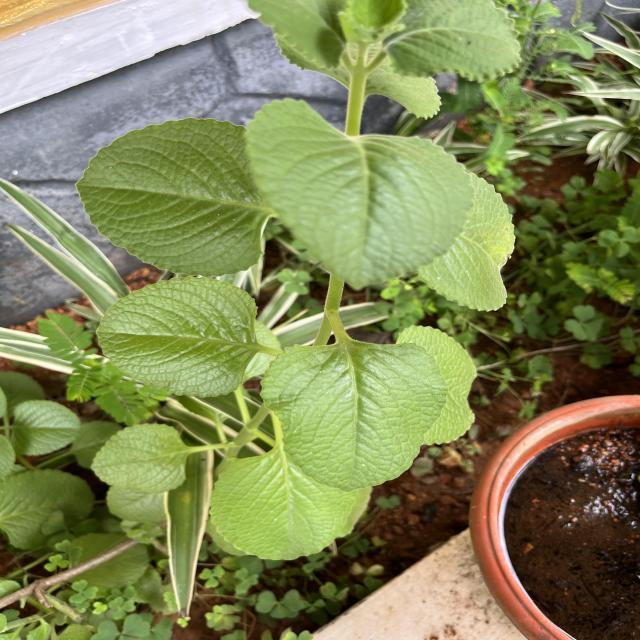Plectranthus barbatus: (245, 96, 475, 292), (96, 122, 292, 280), (260, 339, 450, 493), (95, 276, 259, 398), (208, 450, 354, 561), (422, 175, 516, 312), (0, 467, 96, 550), (90, 422, 188, 494), (12, 399, 82, 457)
